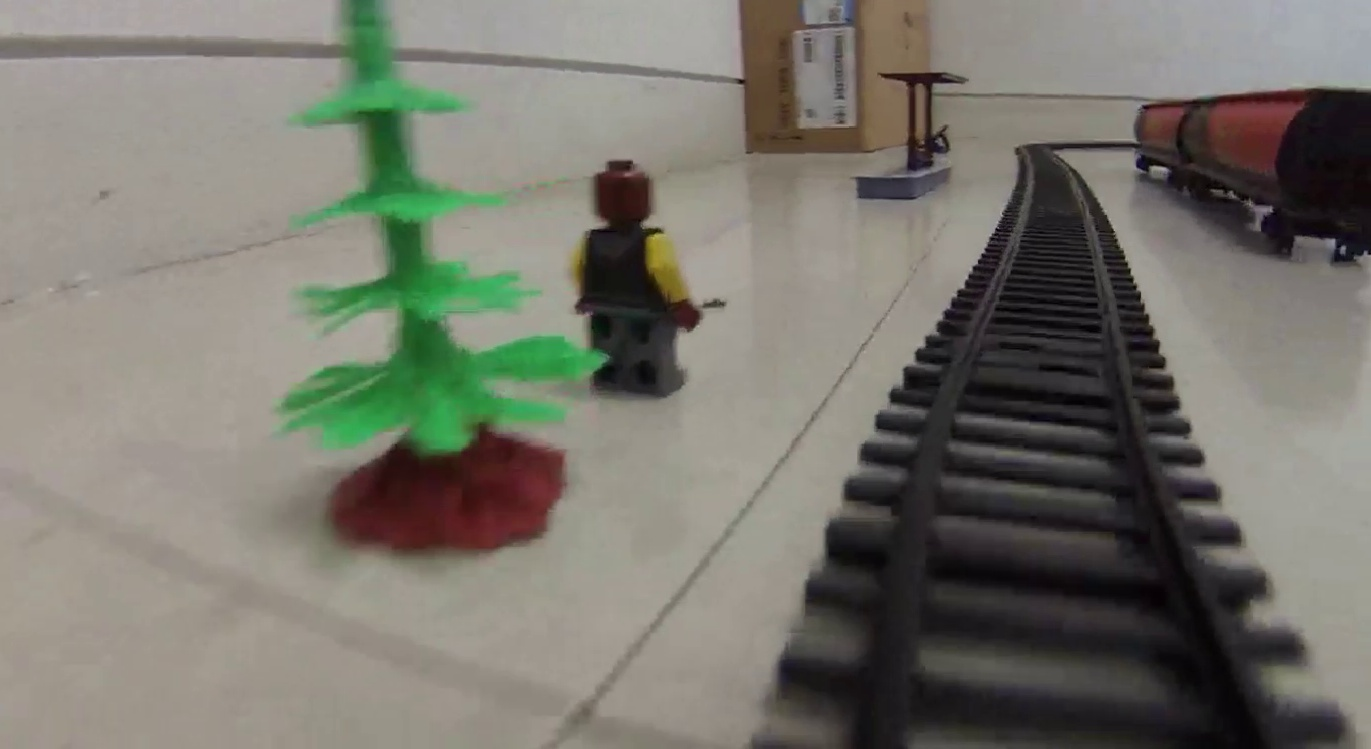people: (578, 158, 702, 402)
tree: (283, 5, 593, 552)
